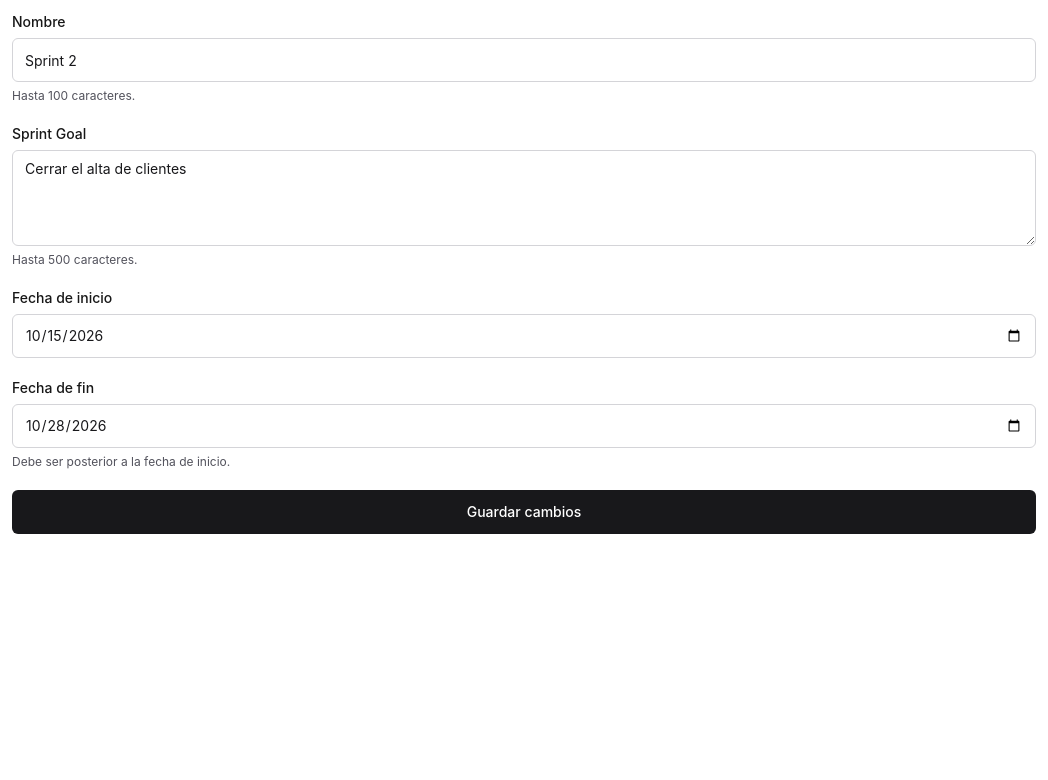
it: 004/US7 - Corregir o descartar un sprint planificado › Modificación completa
The width and height of the screenshot is (1048, 780).
Expected: the button "Guardar cambios" is shown, 12,490 -> 1036,534
Expected: the text box labelled "Sprint Goal" holds "Cerrar el alta de clientes", 12,150 -> 1036,246
Step 1. Replace the text in the field labelled "Nombre" with "Sprint 2 - Clientes" → coordinates (524, 60), box 12,38 -> 1036,82
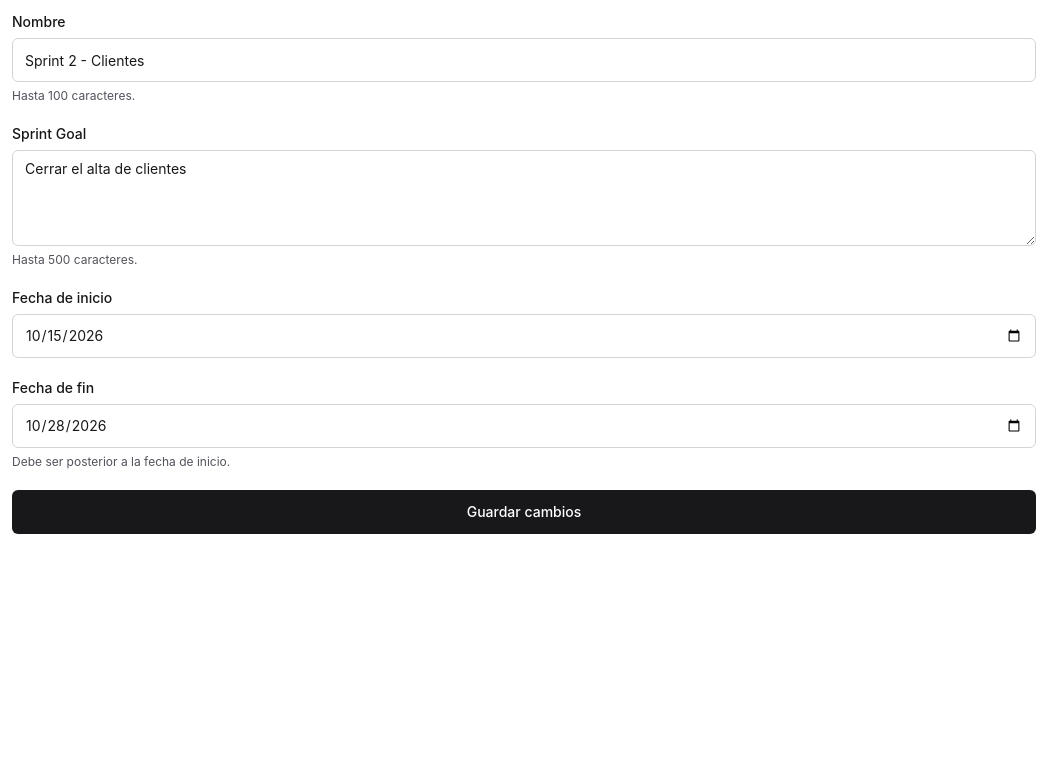
Step 2. Replace the text in the text box labelled "Sprint Goal" with "Publicar el alta y la baja de clientes" → coordinates (524, 198), box 12,150 -> 1036,246
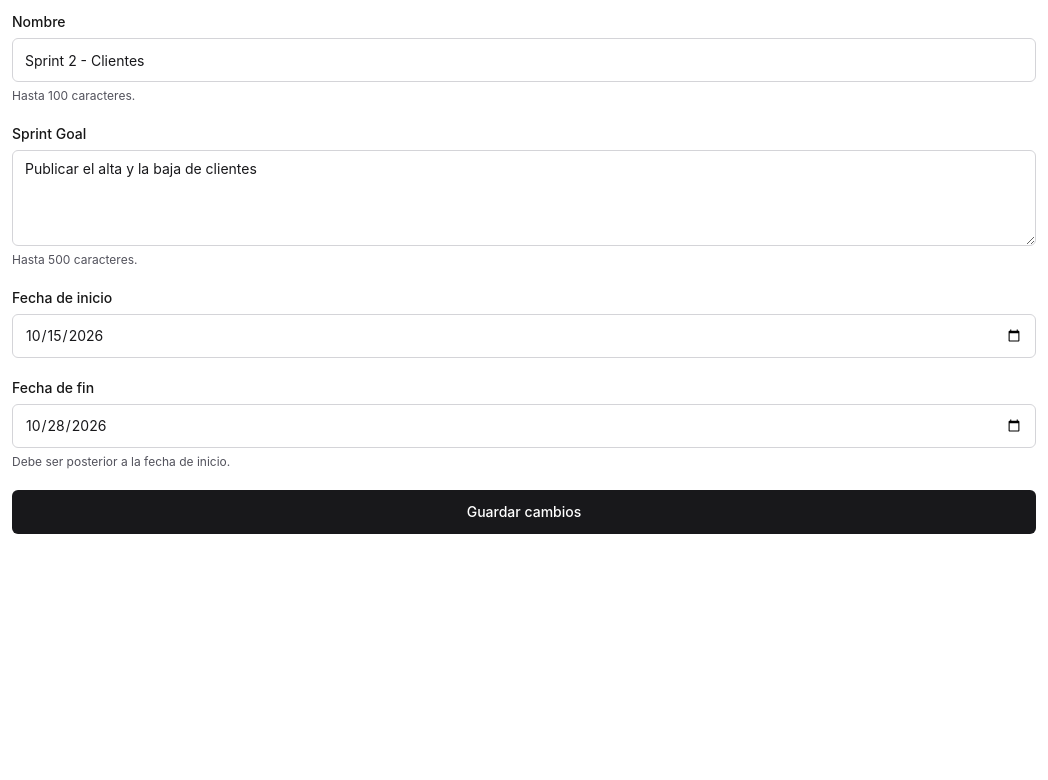
Step 3. Type "2026-10-16" into the date field labelled "Fecha de inicio" → coordinates (524, 336), box 12,314 -> 1036,358
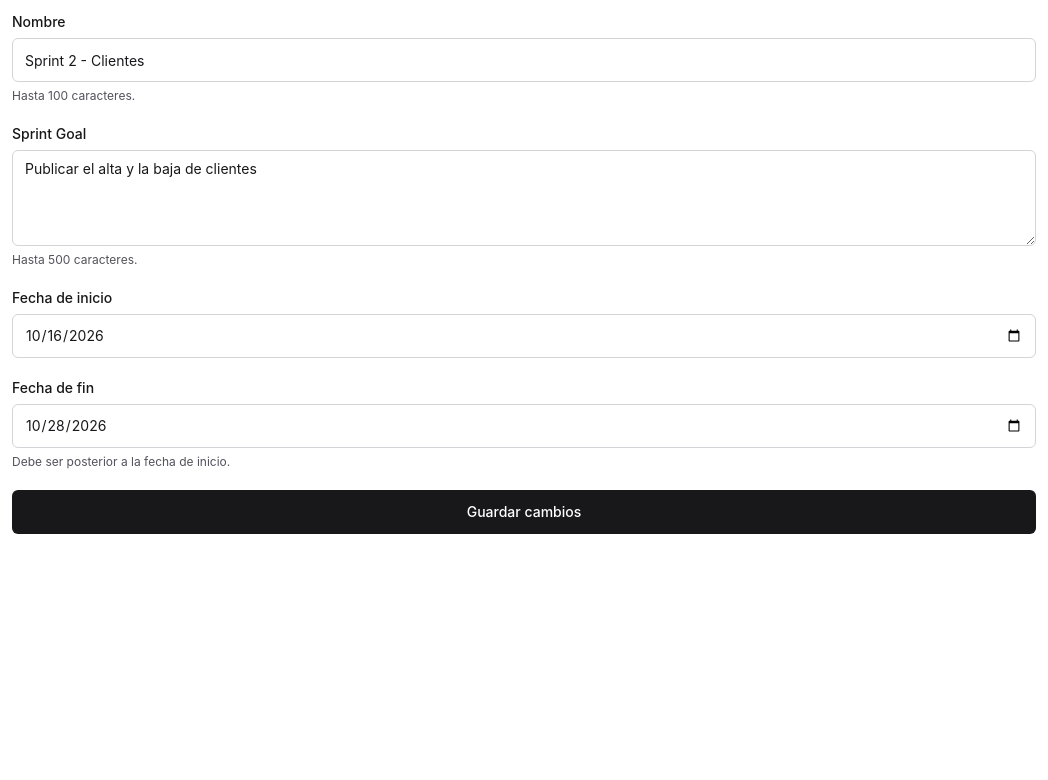
Step 4. Type "2026-10-30" into the date field labelled "Fecha de fin" → coordinates (524, 426), box 12,404 -> 1036,448
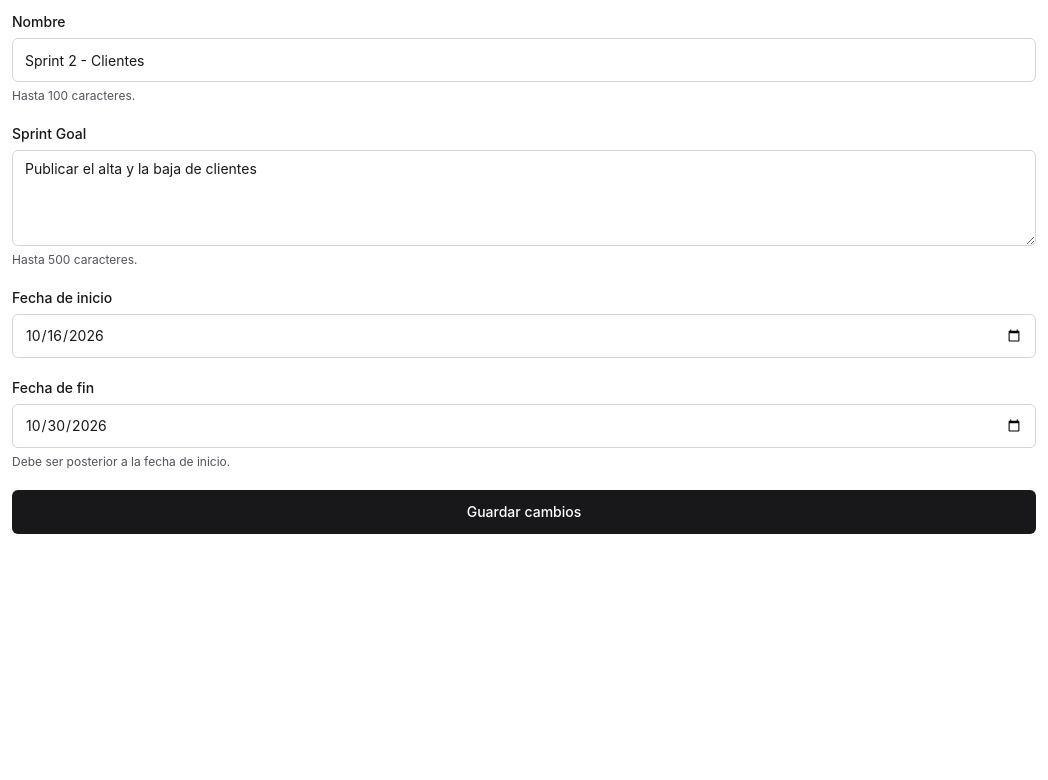
Step 5. Click the button "Guardar cambios" → coordinates (524, 512), box 12,490 -> 1036,534
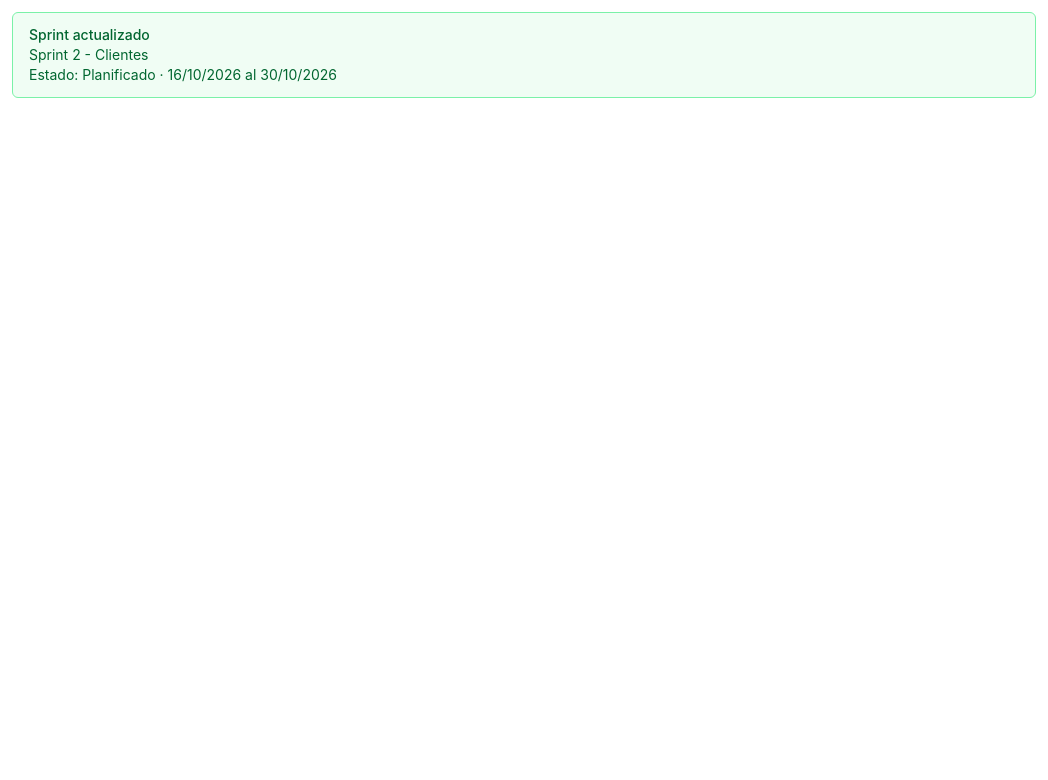
Expected: the text "Sprint actualizado" is shown, 29,26 -> 150,43
Expected: the text "Sprint actualizado" shows "Sprint 2 - Clientes", 29,46 -> 148,63
Expected: the text "Sprint actualizado" shows "Planificado", 82,66 -> 156,83
